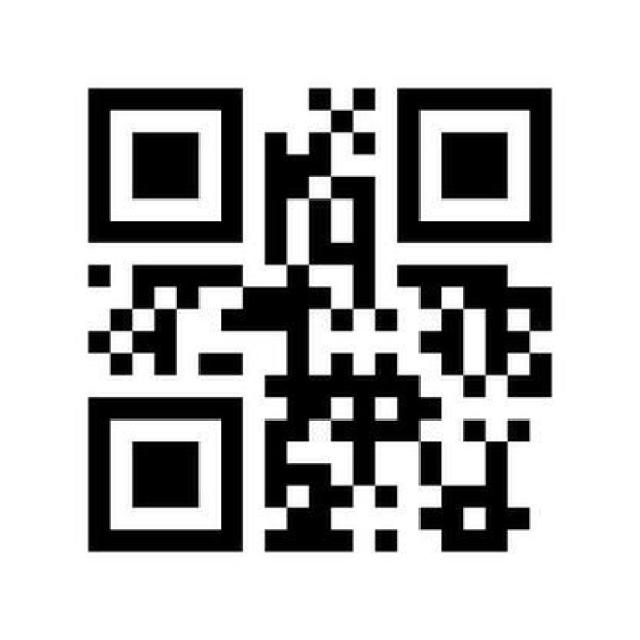QRCode: (75, 73, 572, 560)
